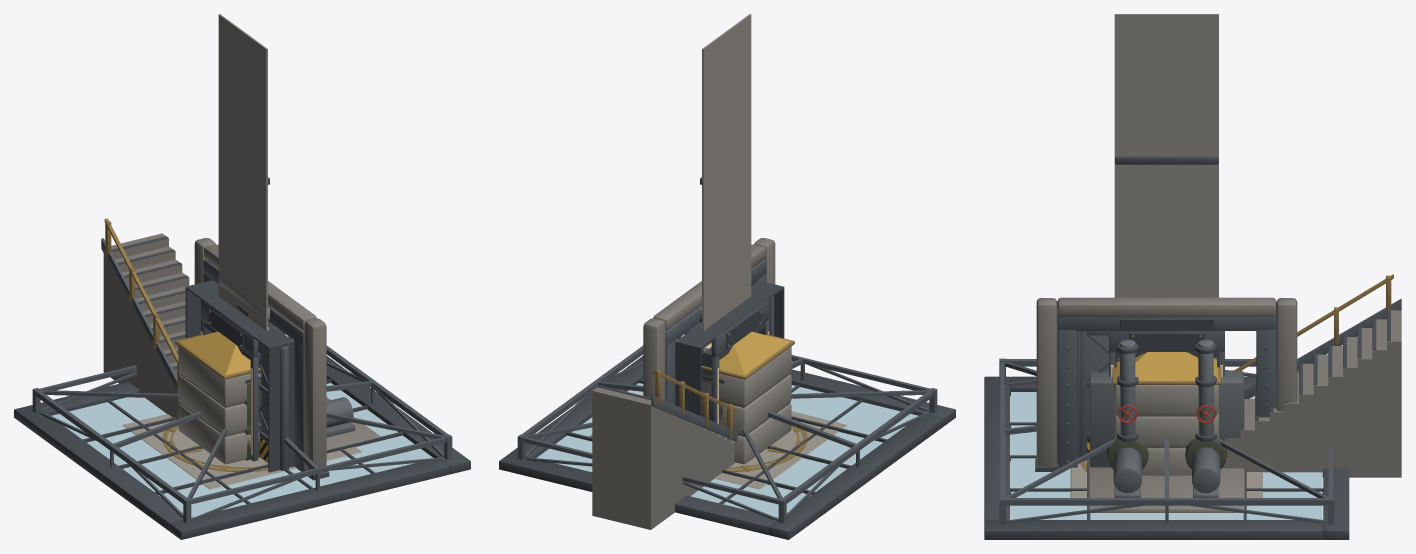
File: Kit.fbx
3 views of the same model, side by side, from view 1: azimuth 30°, elevation 25°; view 2: azimuth 150°, elevation 25°; view 3: azimuth 270°, elevation 25° (orthographic). The views are drawn at different scales.
Parts seen in each view (by area): view 1: ShaftTop_Curb, ShaftPanel8_Field, ShaftTop_Truss, GalleryStair_Treads, ShaftTop_Glass, SunPlinth_Courses, BlastDoor_Piers, BlastDoor_Lining, SunDais_Slab, BlastDoor_Frame, SunPlinth_Cap, BlastDoor_Ribs (+9 smaller); view 2: ShaftPanel8_Field, GalleryStair_Treads, ShaftTop_Curb, ShaftTop_Truss, ShaftTop_Glass, SunPlinth_Courses, BlastDoor_Lining, BlastDoor_Piers, SunDais_Slab, SunPlinth_Cap, BlastDoor_Frame, DoorLining_Frame (+5 smaller); view 3: ShaftPanel8_Field, GalleryStair_Treads, ShaftTop_Curb, BlastDoor_Piers, ShaftTop_Truss, ShaftTop_Glass, BlastDoor_Frame, SunPlinth_Courses, PumpUnit_Cabinet, PumpUnit_Plinth, PumpUnit_Motor, PumpUnit_Pipes (+13 smaller).
Part boxes in pixels (bbox=[...]): ShaftTop_Curb: bbox=[14, 356, 470, 539]; ShaftPanel8_Field: bbox=[218, 14, 267, 330]; ShaftTop_Truss: bbox=[32, 333, 452, 523]; GalleryStair_Treads: bbox=[103, 233, 189, 419]; ShaftTop_Glass: bbox=[51, 383, 433, 517]; SunPlinth_Courses: bbox=[178, 346, 261, 464]; BlastDoor_Piers: bbox=[194, 238, 326, 478]; BlastDoor_Lining: bbox=[185, 280, 294, 472]; SunDais_Slab: bbox=[122, 414, 362, 489]; BlastDoor_Frame: bbox=[203, 259, 304, 471]; SunPlinth_Cap: bbox=[179, 331, 250, 375]; BlastDoor_Ribs: bbox=[259, 342, 288, 470]; ShaftPanel8_Field: bbox=[702, 14, 751, 416]; GalleryStair_Treads: bbox=[592, 387, 735, 529]; ShaftTop_Curb: bbox=[499, 356, 955, 539]; ShaftTop_Truss: bbox=[517, 333, 937, 523]; ShaftTop_Glass: bbox=[536, 383, 918, 517]; SunPlinth_Courses: bbox=[701, 346, 791, 464]; BlastDoor_Lining: bbox=[675, 280, 784, 416]; BlastDoor_Piers: bbox=[643, 238, 775, 400]; SunDais_Slab: bbox=[714, 411, 847, 489]; SunPlinth_Cap: bbox=[719, 331, 790, 375]; BlastDoor_Frame: bbox=[665, 259, 766, 404]; DoorLining_Frame: bbox=[686, 299, 768, 422]; ShaftPanel8_Field: bbox=[1114, 14, 1218, 359]; GalleryStair_Treads: bbox=[1222, 310, 1401, 477]; ShaftTop_Curb: bbox=[984, 376, 1349, 539]; BlastDoor_Piers: bbox=[1036, 297, 1297, 466]; ShaftTop_Truss: bbox=[999, 358, 1334, 524]; ShaftTop_Glass: bbox=[1011, 392, 1322, 519]; BlastDoor_Frame: bbox=[1057, 314, 1276, 467]; SunPlinth_Courses: bbox=[1114, 385, 1218, 475]; PumpUnit_Cabinet: bbox=[1090, 371, 1243, 467]; PumpUnit_Plinth: bbox=[1089, 458, 1244, 512]; PumpUnit_Motor: bbox=[1113, 447, 1220, 497]; PumpUnit_Pipes: bbox=[1120, 339, 1213, 436].
Size of the model in its own units: 28 by 39.6 by 32.
